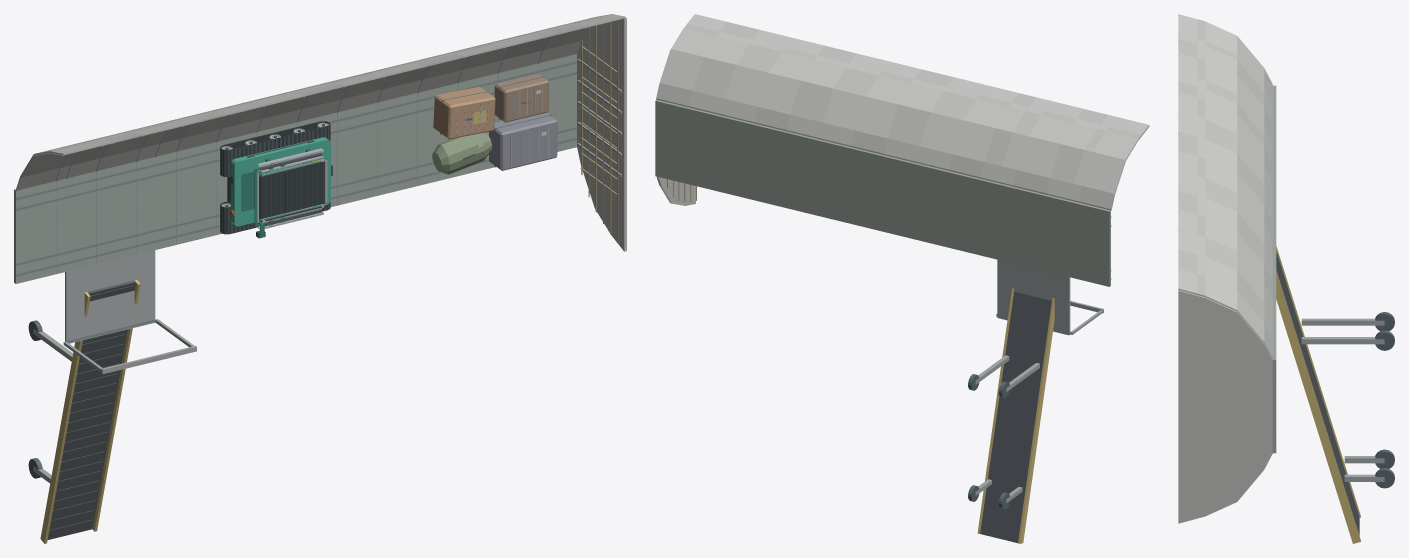
File: environment_with_bellybot_preview.glb
3 views of the same model, side by side, from view 1: azimuth 30°, elevation 25°; view 2: azimuth 150°, elevation 25°; view 3: azimuth 270°, elevation 25° (orthographic). The views are drawn at different scales.
Parts seen in each view (by area): view 1: nb_hold_cutaway_load_floor, belt_loader_belt, nb_hold_cutaway_bulkhead_7.7, nb_hold_cutaway_entry_pocket_floor, bag_hard_32_case, tray_belt_loop, bag_fragile_20_case, teal_body_shell, bag_hard_20_case, belt_loader_edge_r, bag_duffel_23_soft_rigid_proxy, left_track_belt (+7 smaller); view 2: nb_hold_cutaway_load_floor, belt_loader_belt, nb_hold_cutaway_entry_pocket_floor, belt_loader_edge_r, nb_hold_cutaway_liner_1_0_1, nb_hold_cutaway_liner_1_11_1, nb_hold_cutaway_liner_1_15_1, nb_hold_cutaway_liner_1_14_1, nb_hold_cutaway_liner_1_3_1, nb_hold_cutaway_liner_1_13_1, nb_hold_cutaway_liner_1_10_1, nb_hold_cutaway_liner_1_6_1 (+34 smaller); view 3: nb_hold_cutaway_bulkhead_7.7, belt_loader_edge_l, nb_hold_cutaway_load_floor, belt_loader_belt, nb_hold_cutaway_liner_1_15_2, nb_hold_cutaway_liner_1_14_2, nb_hold_cutaway_liner_1_13_2, nb_hold_cutaway_liner_1_9_2, nb_hold_cutaway_liner_1_8_2, nb_hold_cutaway_liner_1_3_2, nb_hold_cutaway_liner_1_11_2, nb_hold_cutaway_liner_1_6_2 (+44 smaller).
Part boxes in pixels (bbox=[...]): nb_hold_cutaway_load_floor: bbox=[14, 54, 576, 283]; belt_loader_belt: bbox=[47, 280, 135, 539]; nb_hold_cutaway_bulkhead_7.7: bbox=[577, 18, 626, 251]; nb_hold_cutaway_entry_pocket_floor: bbox=[65, 250, 155, 343]; bag_hard_32_case: bbox=[489, 113, 557, 170]; tray_belt_loop: bbox=[259, 161, 324, 219]; bag_fragile_20_case: bbox=[433, 86, 495, 139]; teal_body_shell: bbox=[230, 137, 330, 226]; bag_hard_20_case: bbox=[494, 73, 548, 122]; belt_loader_edge_r: bbox=[40, 292, 90, 543]; bag_duffel_23_soft_rigid_proxy: bbox=[432, 132, 492, 174]; left_track_belt: bbox=[220, 121, 330, 176]; nb_hold_cutaway_load_floor: bbox=[655, 100, 1110, 286]; belt_loader_belt: bbox=[980, 291, 1051, 542]; nb_hold_cutaway_entry_pocket_floor: bbox=[997, 259, 1070, 335]; belt_loader_edge_r: bbox=[1018, 297, 1054, 543]; nb_hold_cutaway_liner_1_0_1: bbox=[1082, 152, 1125, 193]; nb_hold_cutaway_liner_1_11_1: bbox=[790, 80, 833, 122]; nb_hold_cutaway_liner_1_15_1: bbox=[660, 49, 703, 90]; nb_hold_cutaway_liner_1_14_1: bbox=[693, 57, 735, 98]; nb_hold_cutaway_liner_1_3_1: bbox=[1017, 136, 1060, 177]; nb_hold_cutaway_liner_1_13_1: bbox=[725, 65, 768, 106]; nb_hold_cutaway_liner_1_10_1: bbox=[822, 88, 865, 130]; nb_hold_cutaway_liner_1_6_1: bbox=[952, 120, 995, 161]; nb_hold_cutaway_bulkhead_7.7: bbox=[1178, 290, 1272, 523]; belt_loader_edge_l: bbox=[1276, 270, 1360, 543]; nb_hold_cutaway_load_floor: bbox=[1272, 85, 1276, 453]; belt_loader_belt: bbox=[1276, 252, 1359, 535]; nb_hold_cutaway_liner_1_15_2: bbox=[1205, 276, 1237, 311]; nb_hold_cutaway_liner_1_14_2: bbox=[1205, 256, 1237, 290]; nb_hold_cutaway_liner_1_13_2: bbox=[1205, 237, 1237, 270]; nb_hold_cutaway_liner_1_9_2: bbox=[1205, 158, 1237, 192]; nb_hold_cutaway_liner_1_8_2: bbox=[1205, 139, 1237, 172]; nb_hold_cutaway_liner_1_3_2: bbox=[1205, 60, 1237, 94]; nb_hold_cutaway_liner_1_11_2: bbox=[1205, 198, 1237, 231]; nb_hold_cutaway_liner_1_6_2: bbox=[1205, 100, 1237, 133].
Size of the model in its own units: 7.72 by 6.16 by 2.57.
